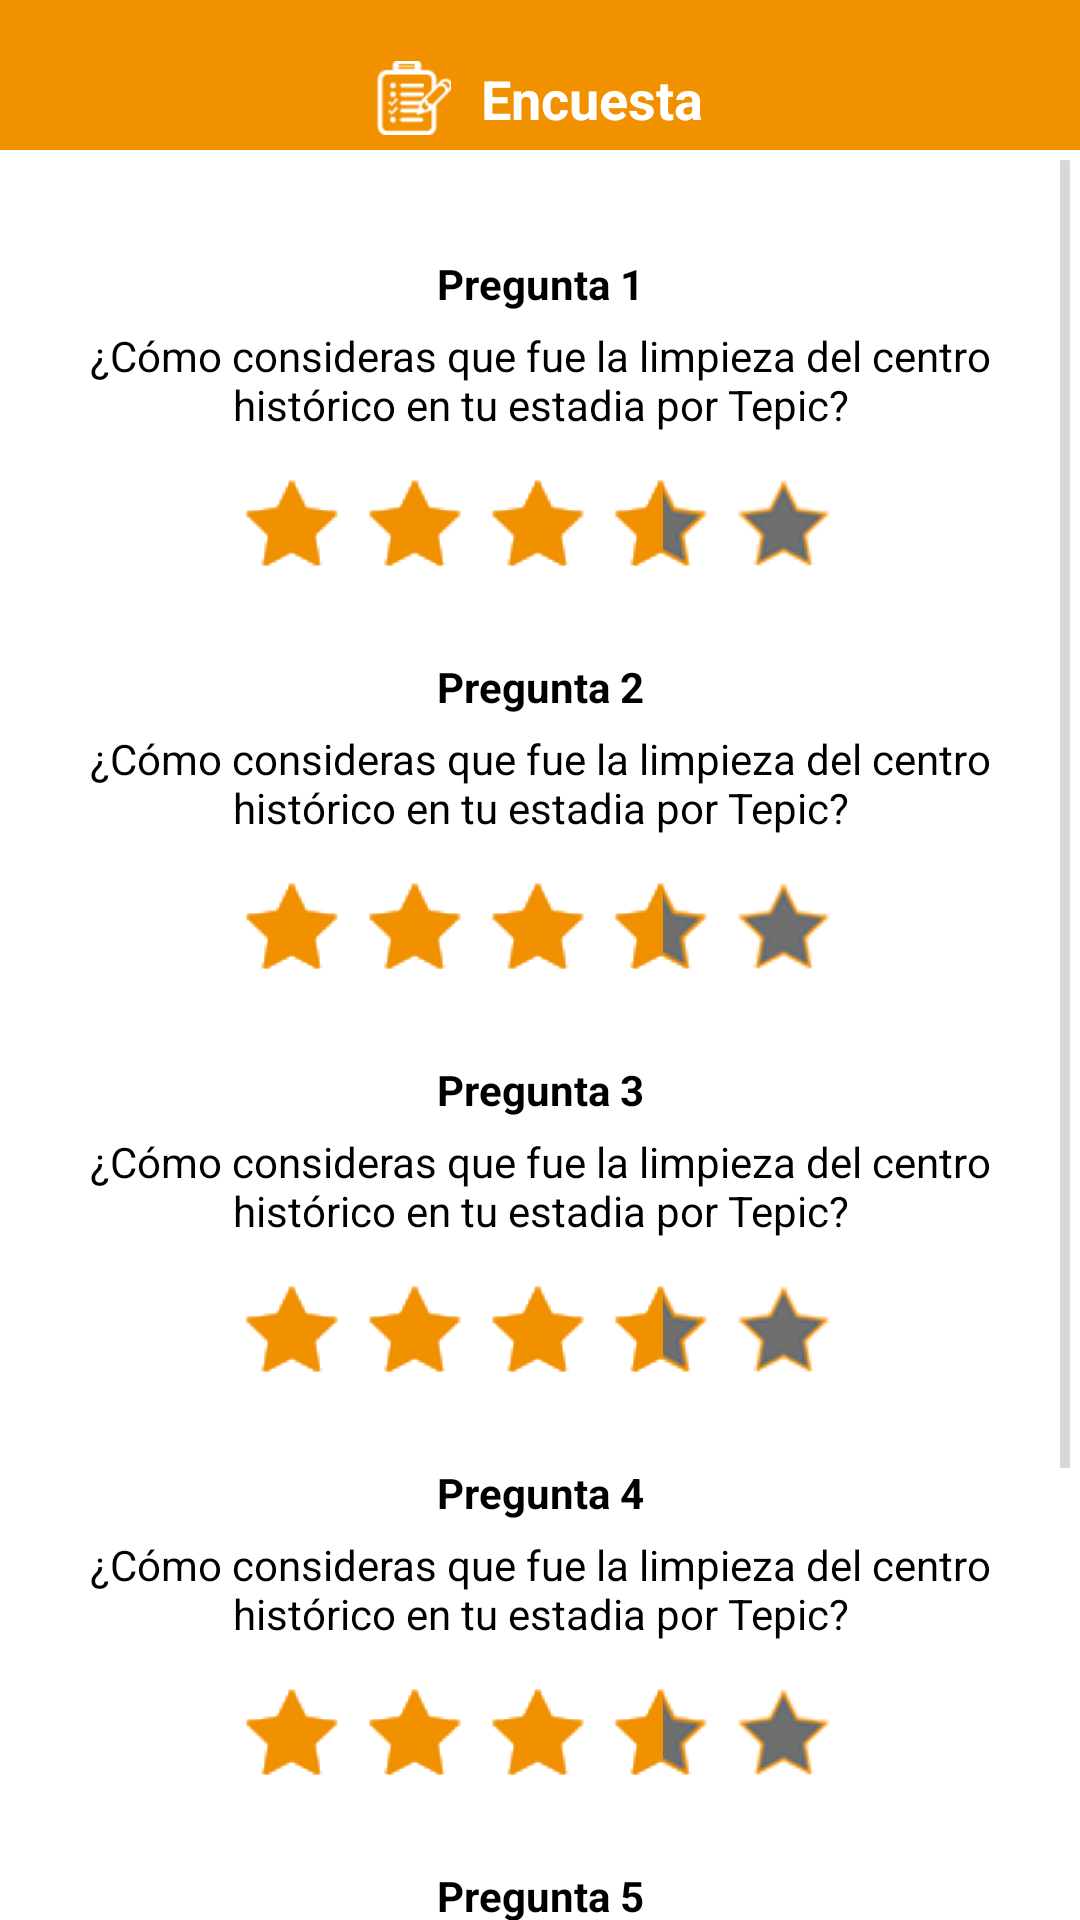

Icon bounding boxes for this 1080px×1920px phone screenshot, format (x1, y1, x2, y2):
enc: (377, 61, 451, 135)
